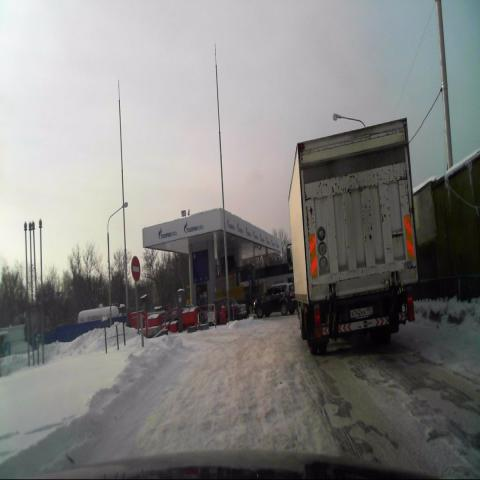3_1: (130, 255, 140, 283)
